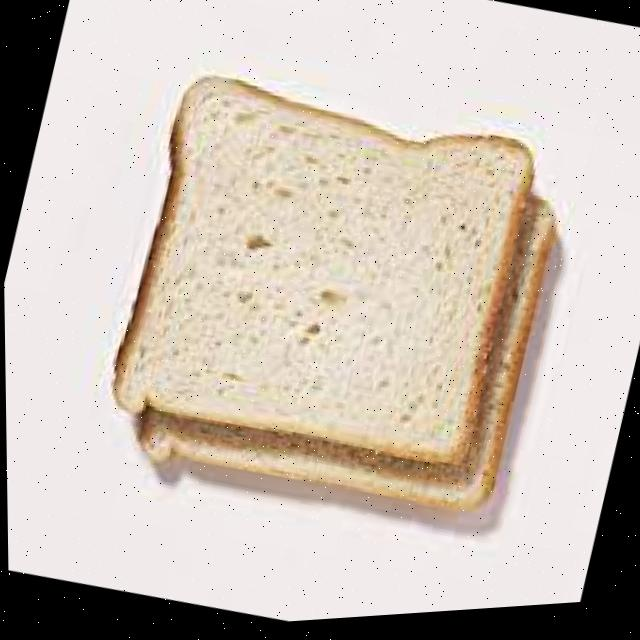Bread: (112, 79, 556, 516)
